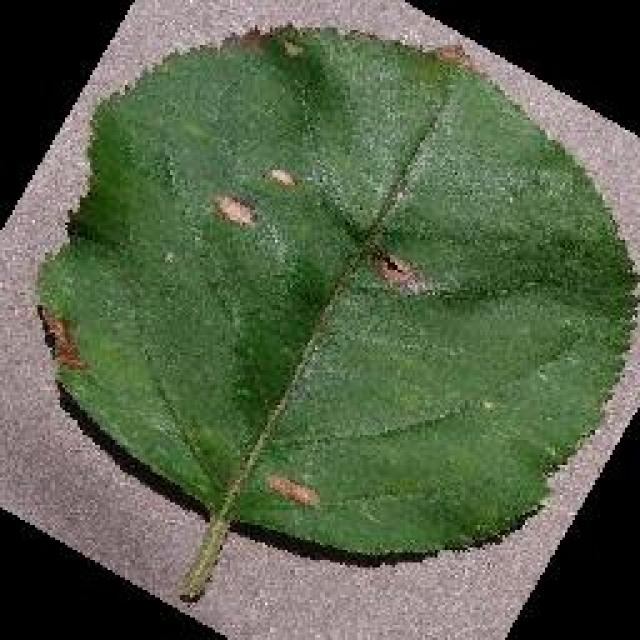apple black rot: (30, 20, 638, 598)
